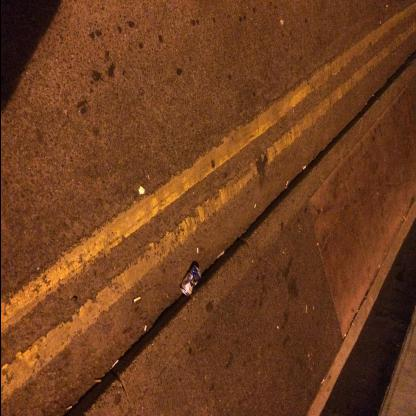metal: (179, 264, 200, 296)
